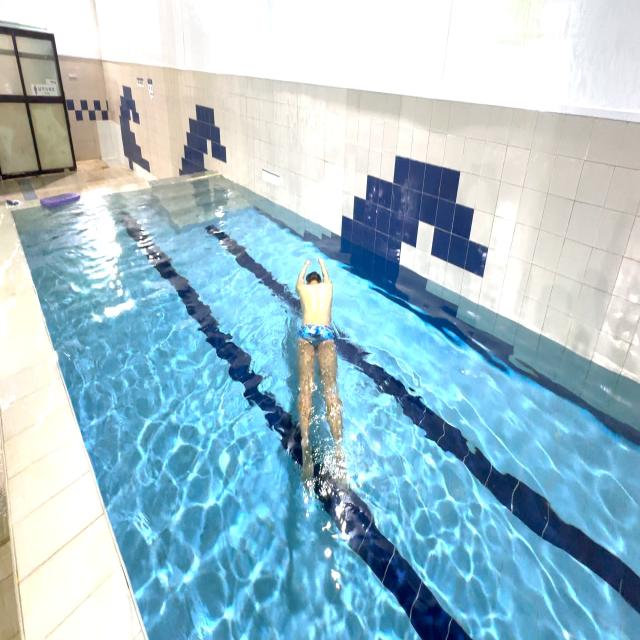Swimming: (282, 249, 354, 521)
